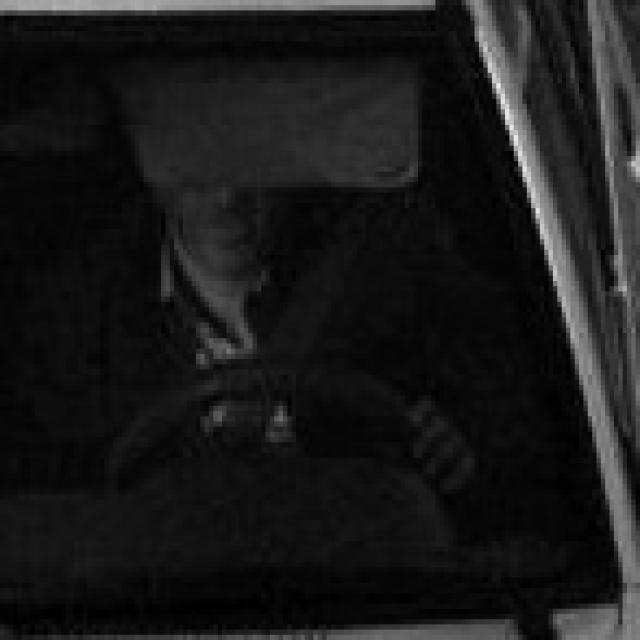Seatbelt: (252, 203, 366, 406)
